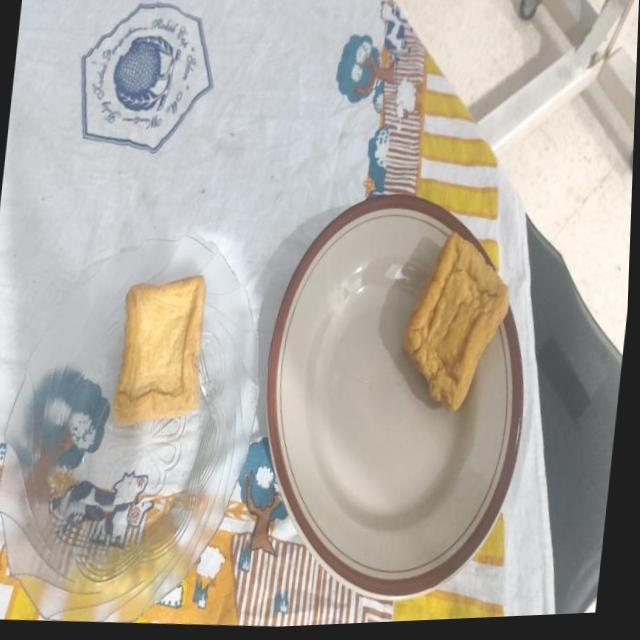tahu_goreng: (402, 232, 508, 410), (112, 276, 205, 424)
